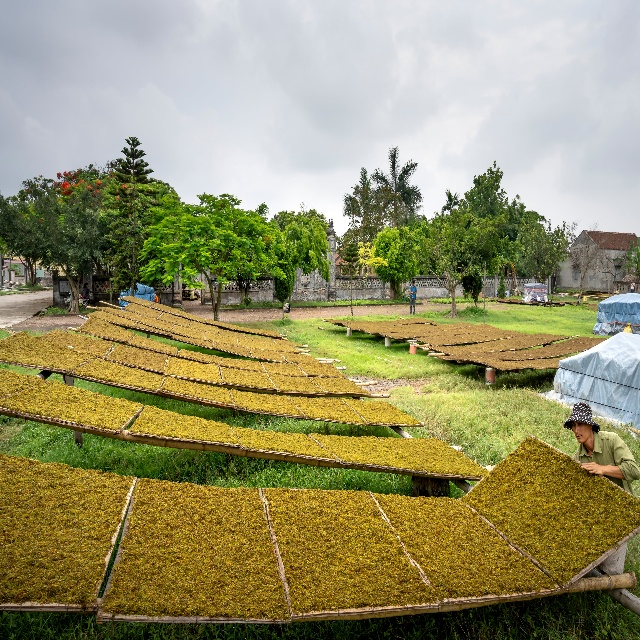Sin_guantes: (581, 461, 604, 475)
